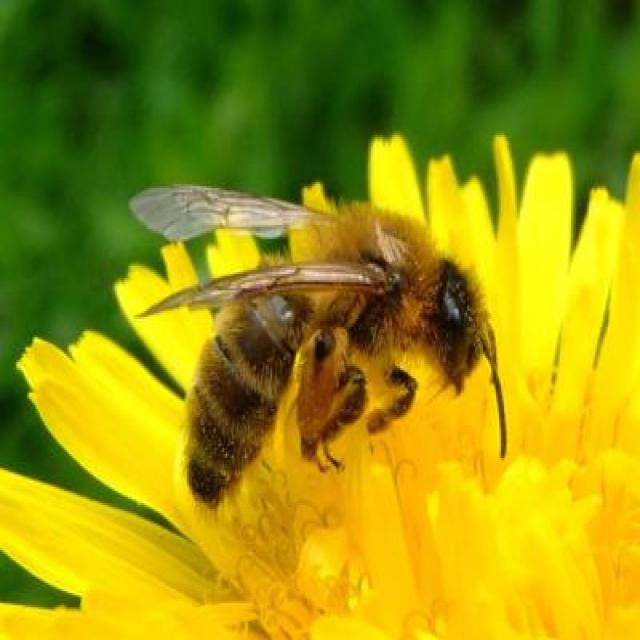antennae: (480, 333, 508, 457), (482, 319, 504, 386)
body: (183, 210, 488, 508)
insect: (128, 179, 518, 516)
legs: (362, 325, 421, 443), (296, 330, 342, 465), (316, 345, 364, 473)
mouthpart: (430, 354, 478, 402)
wings: (134, 254, 397, 327), (128, 180, 338, 240)
